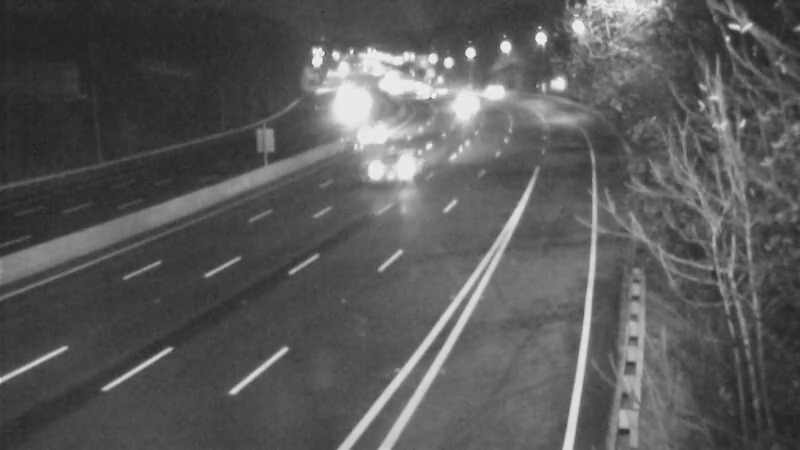vehicle: (354, 130, 434, 210), (470, 58, 520, 108), (445, 79, 495, 129), (349, 107, 399, 157), (317, 81, 367, 131)
